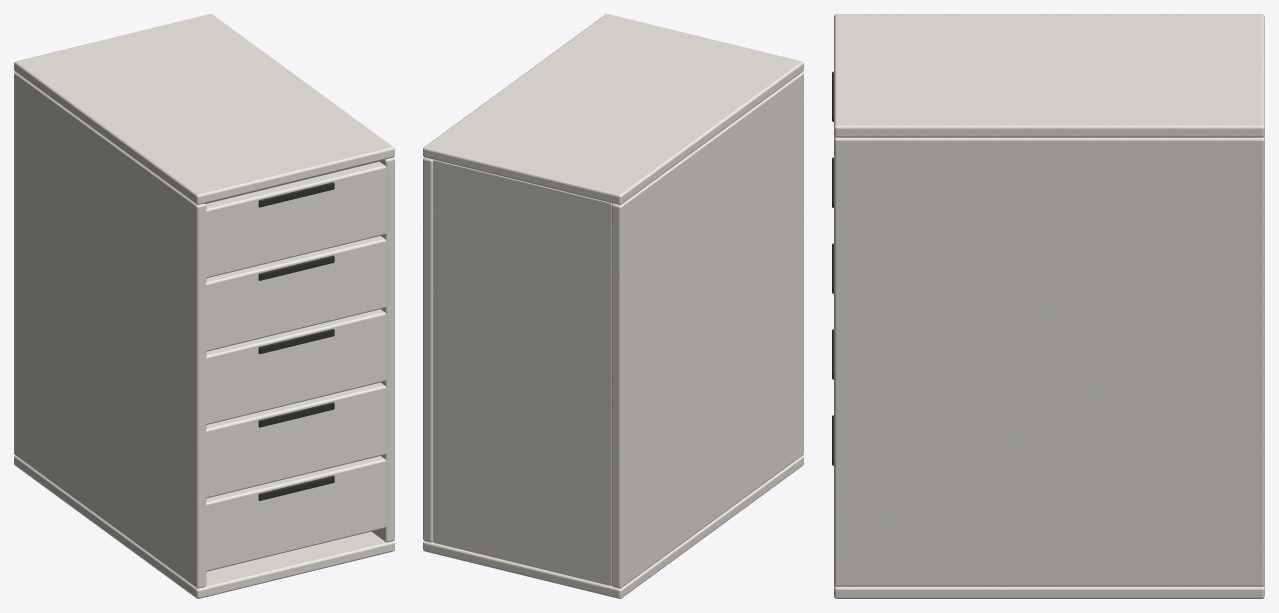
The model's file is alex.glb.
3 views of the same model, side by side, from view 1: azimuth 30°, elevation 25°; view 2: azimuth 150°, elevation 25°; view 3: azimuth 270°, elevation 25° (orthographic). The views are drawn at different scales.
Parts seen in each view (by area): view 1: ALEX 5-drawer unit; view 2: ALEX 5-drawer unit; view 3: ALEX 5-drawer unit.
Part boxes in pixels (left/top/right/bottom): ALEX 5-drawer unit: left=14, top=14, right=394, bottom=598; ALEX 5-drawer unit: left=423, top=14, right=803, bottom=598; ALEX 5-drawer unit: left=832, top=14, right=1264, bottom=598.
Size of the model in its own units: 0.36 by 0.7 by 0.58.
2 materials, 2 textured.
